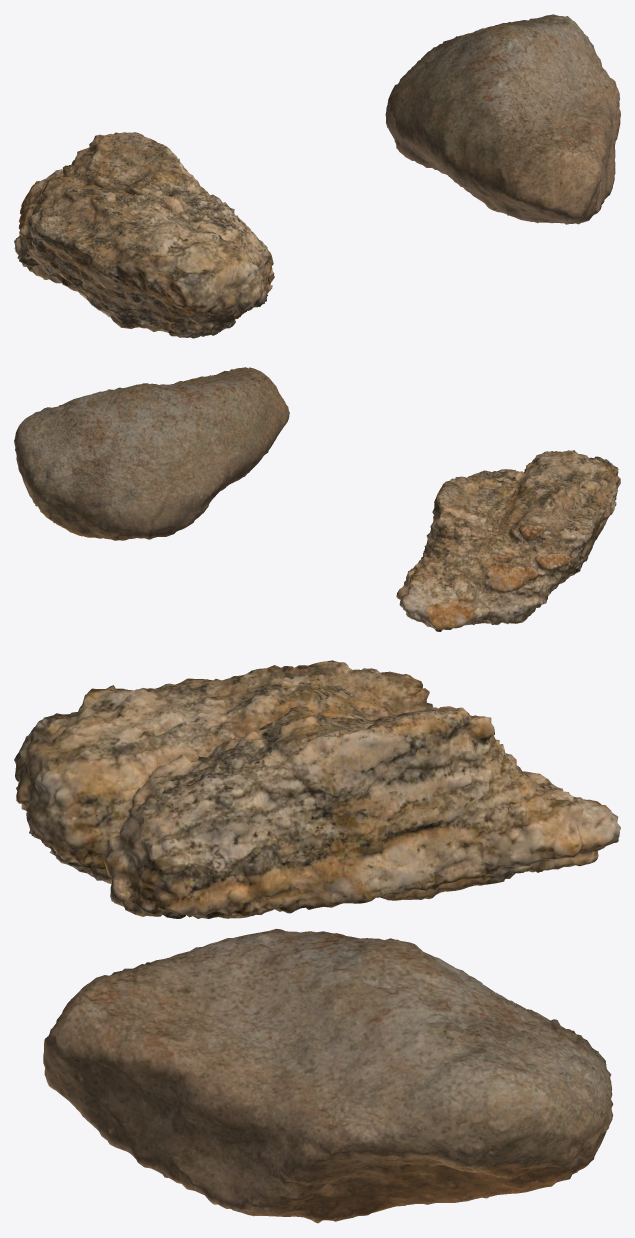
The model's file is namaqualand_boulders_01.gltf.
3 views of the same model, one above another, from view 1: azimuth 30°, elevation 25°; view 2: azimuth 150°, elevation 25°; view 3: azimuth 270°, elevation 25° (orthographic). The views are drawn at different scales.
Visible parts, largest first — view 1: namaqualand_rocks_01_a, namaqualand_rocks_01_b; view 2: namaqualand_rocks_01_a, namaqualand_rocks_01_b; view 3: namaqualand_rocks_01_a, namaqualand_rocks_01_b.
Part boxes in pixels (left/top/right/bottom): namaqualand_rocks_01_a: left=385, top=14, right=620, bottom=224; namaqualand_rocks_01_b: left=14, top=132, right=274, bottom=338; namaqualand_rocks_01_a: left=14, top=367, right=289, bottom=540; namaqualand_rocks_01_b: left=396, top=450, right=620, bottom=631; namaqualand_rocks_01_a: left=43, top=928, right=613, bottom=1223; namaqualand_rocks_01_b: left=14, top=660, right=620, bottom=918.
Bounding box in the file's own units: 1.06 × 0.2516 × 0.5866.
Materials: 1 (1 with a texture image).
